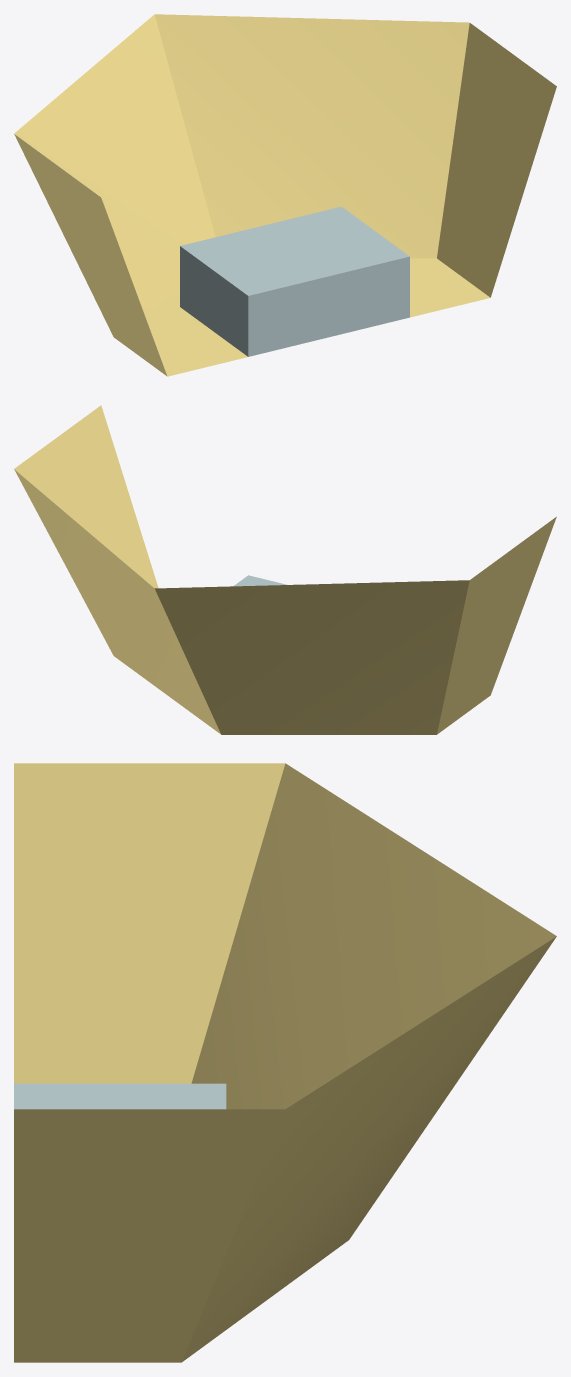
File: Light_Lamp_Wall.glb
3 views of the same model, one above another, from view 1: azimuth 30°, elevation 25°; view 2: azimuth 150°, elevation 25°; view 3: azimuth 270°, elevation 25° (orthographic). The views are drawn at different scales.
Visible parts, largest first — view 1: lampWall; view 2: lampWall; view 3: lampWall.
Boxes of the visible parts, left/top/right/bottom form: lampWall: left=14, top=14, right=556, bottom=376; lampWall: left=14, top=405, right=556, bottom=734; lampWall: left=14, top=763, right=556, bottom=1362.
Size of the model in its own units: 0.2266 by 0.0928 by 0.1503.
